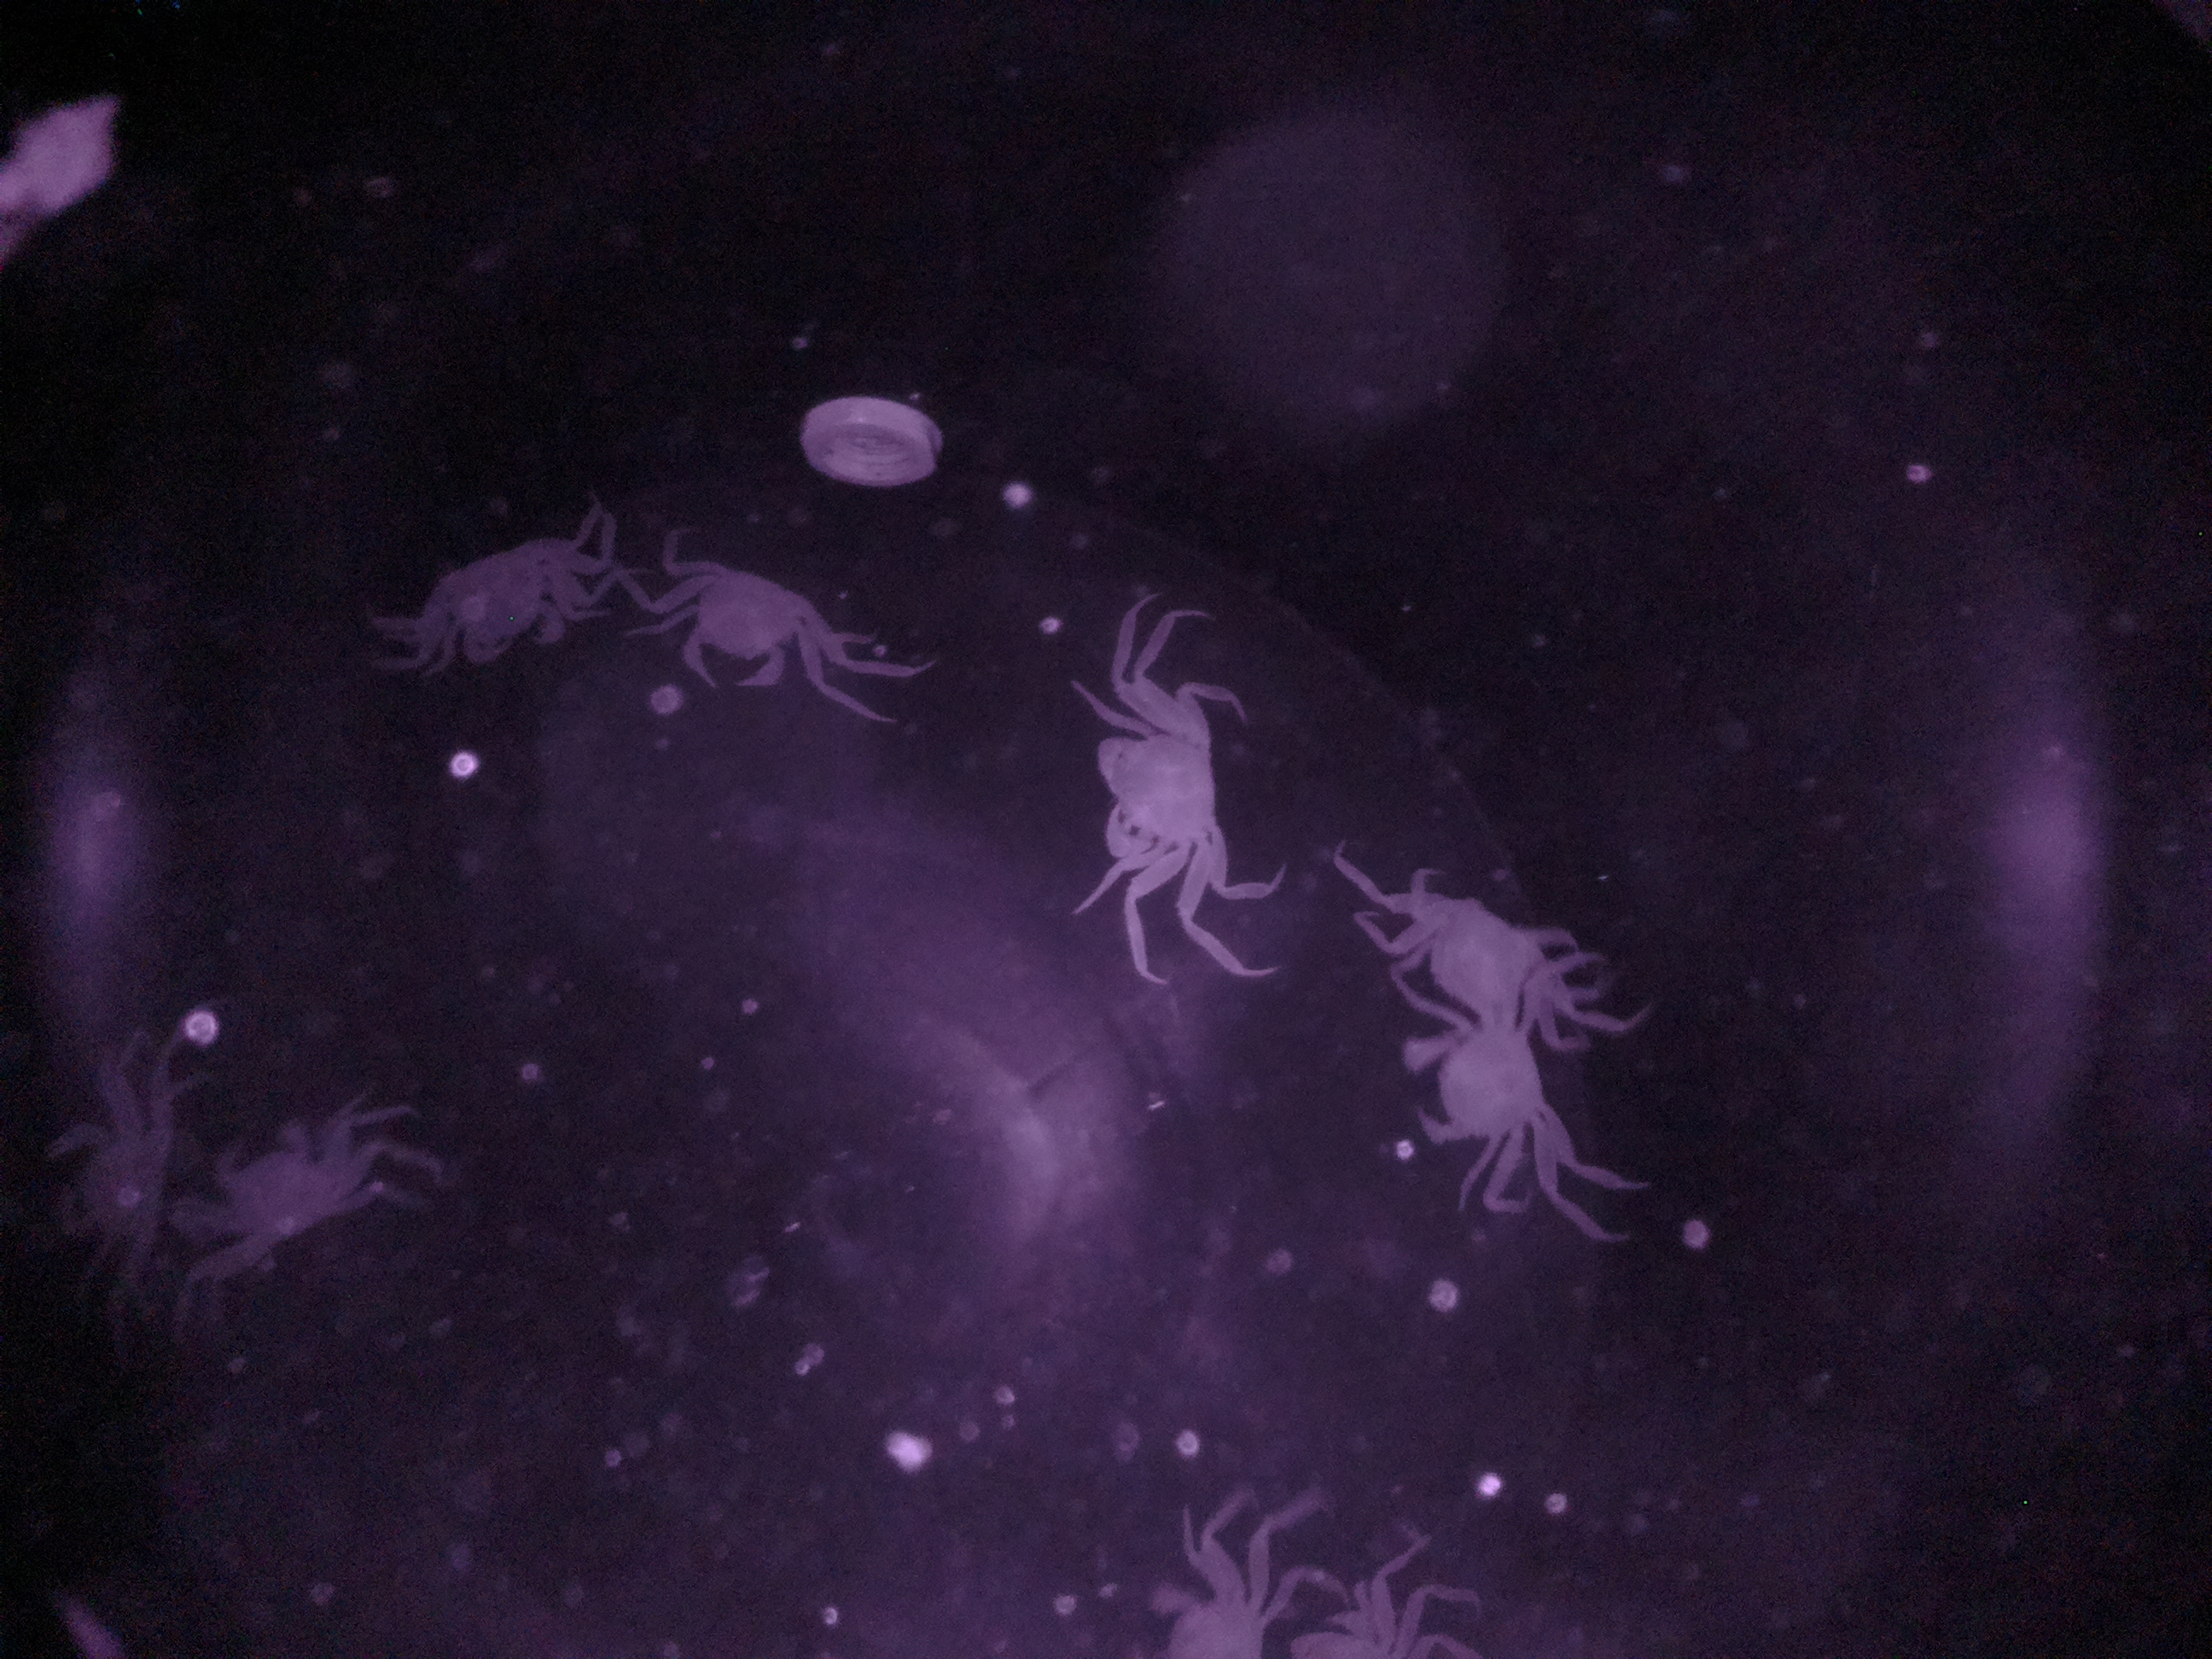Crab: (1076, 650, 1237, 936), (1400, 985, 1602, 1201), (632, 528, 860, 709), (418, 518, 615, 685)
